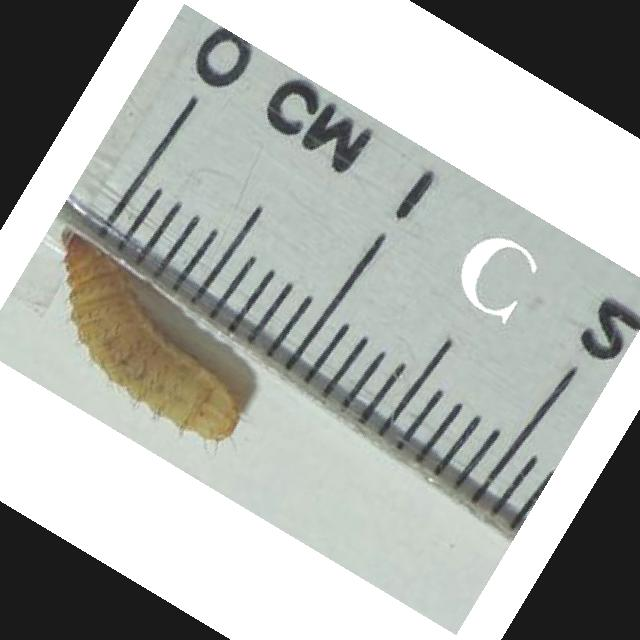Maggot: (51, 227, 240, 450)
